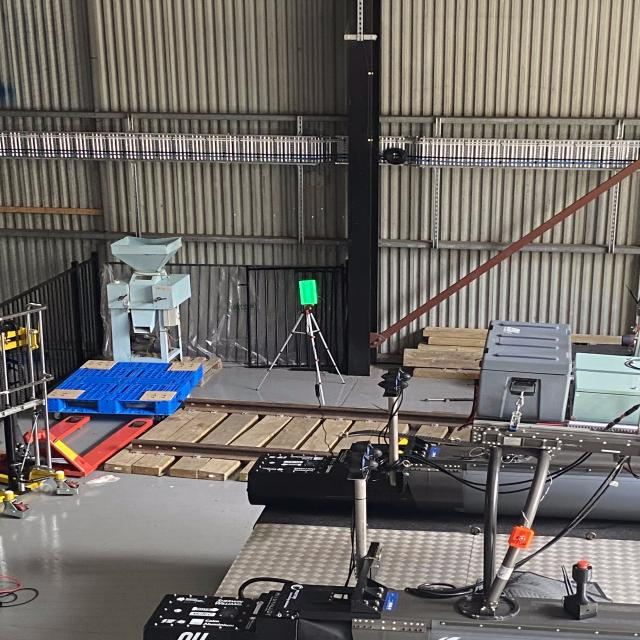matrix: (296, 279, 320, 306)
